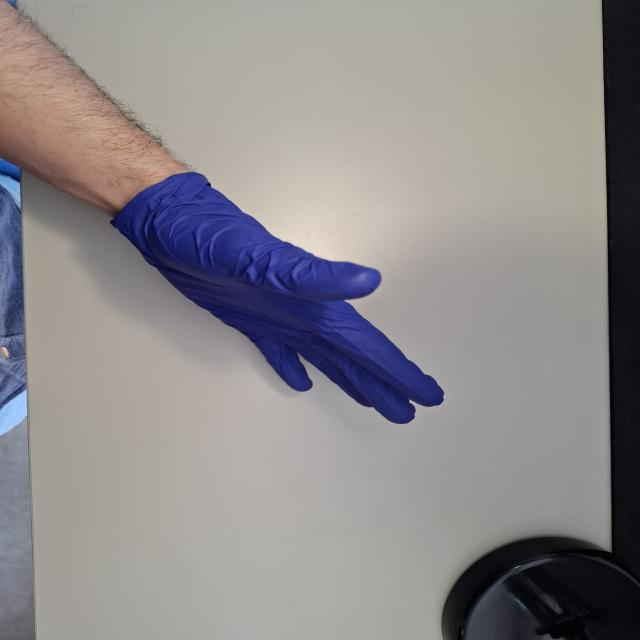glove_on: (108, 166, 448, 427)
